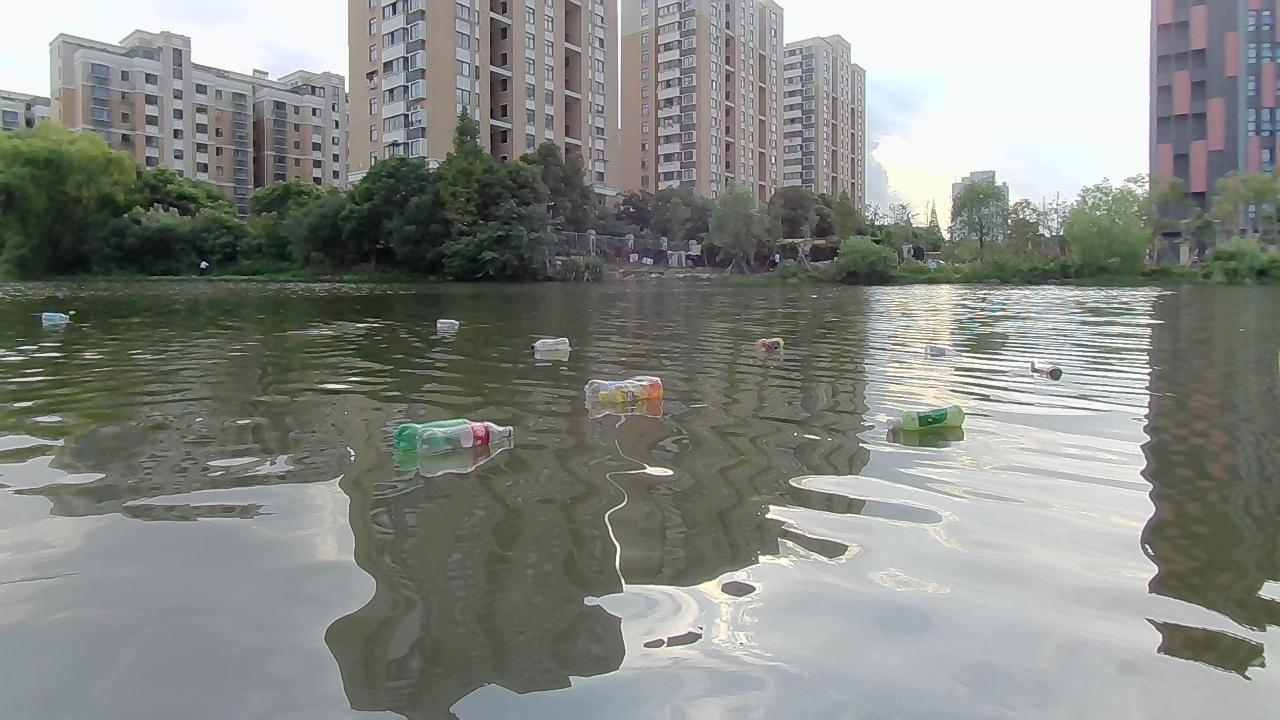bottle: (415, 421, 516, 458), (883, 401, 970, 437), (396, 420, 499, 448), (580, 371, 662, 395), (600, 379, 664, 401), (1028, 358, 1059, 382), (921, 338, 959, 357), (532, 336, 571, 353), (430, 318, 465, 332), (35, 308, 70, 322), (753, 333, 787, 347)
